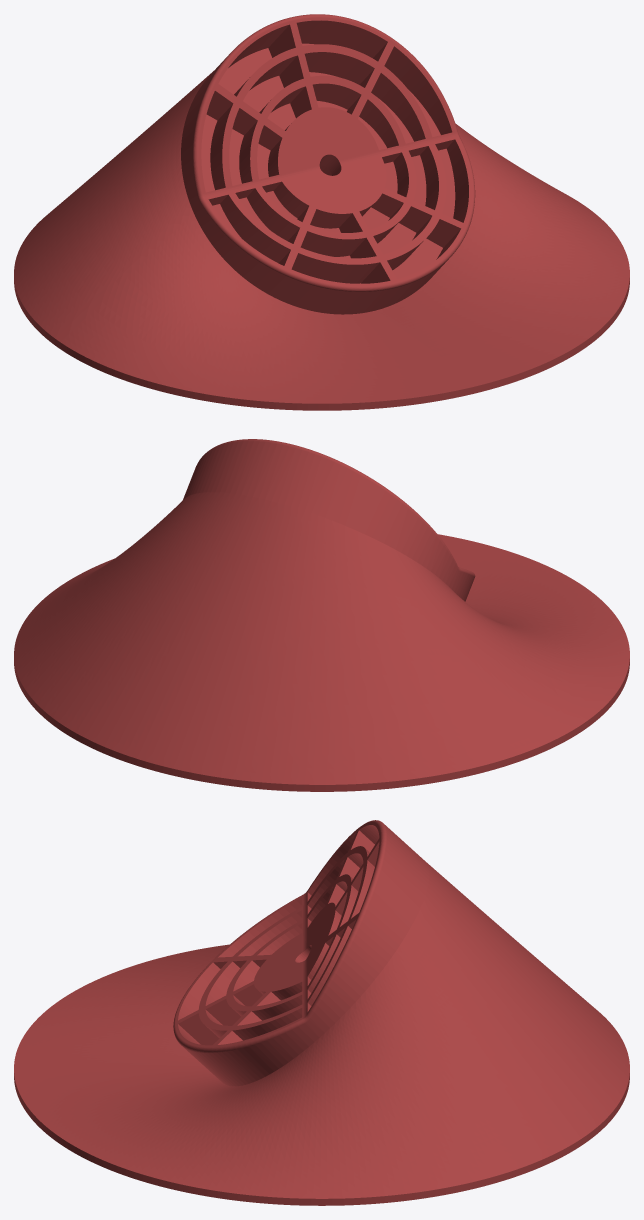
File: HuePlayStand-17.glb
3 renders of one model, top to bottom at view 1: azimuth 30°, elevation 25°; view 2: azimuth 150°, elevation 25°; view 3: azimuth 270°, elevation 25°, orthographic.
Size of the model in its own units: 80 by 34.39 by 79.99.
